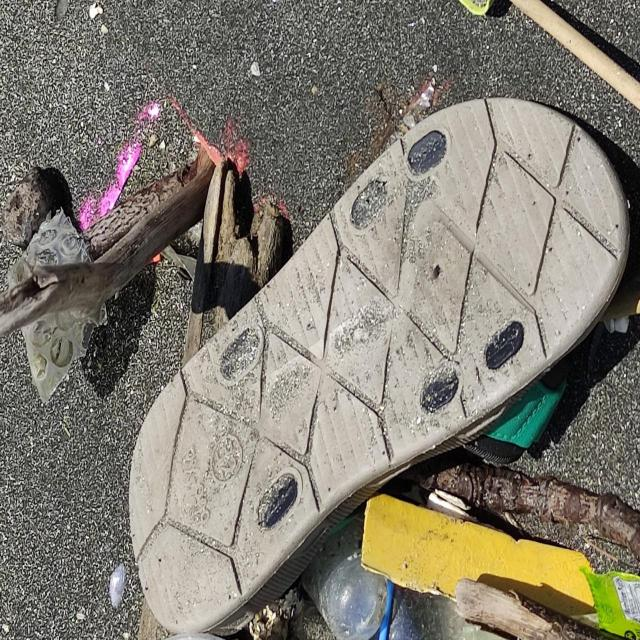rubber_waste: (126, 100, 640, 640)
